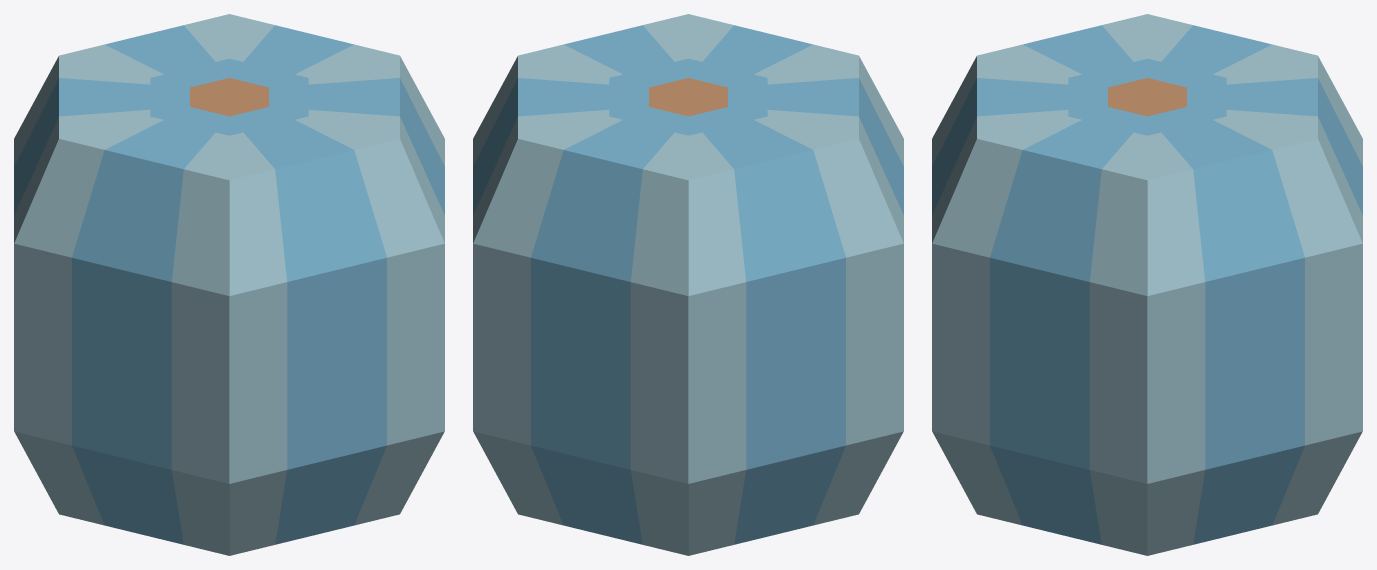
File: cc0-crop-melon-lod0.glb
3 renders of one model, left to right at view 1: azimuth 30°, elevation 25°; view 2: azimuth 150°, elevation 25°; view 3: azimuth 270°, elevation 25°, orthographic.
Parts seen in each view (by area): view 1: part_0; view 2: part_0; view 3: part_0.
Part boxes in pixels (x1=…): part_0: x1=14, y1=14, x2=444, y2=555; part_0: x1=473, y1=14, x2=903, y2=555; part_0: x1=932, y1=14, x2=1362, y2=555.
Size of the model in its own units: 0.4176 by 0.348 by 0.3617.
